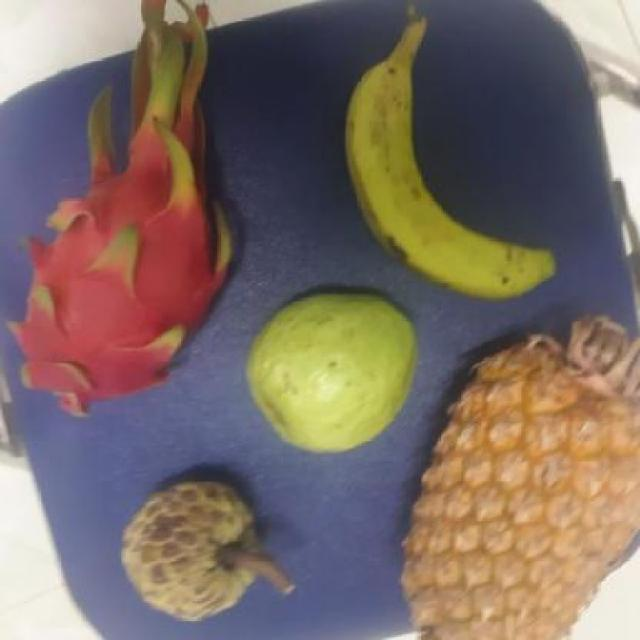banana: (337, 58, 555, 297)
dragon fruit: (4, 103, 239, 414)
guava: (236, 292, 416, 454)
pineapple: (397, 314, 640, 638)
sugar apple: (116, 474, 264, 620)
